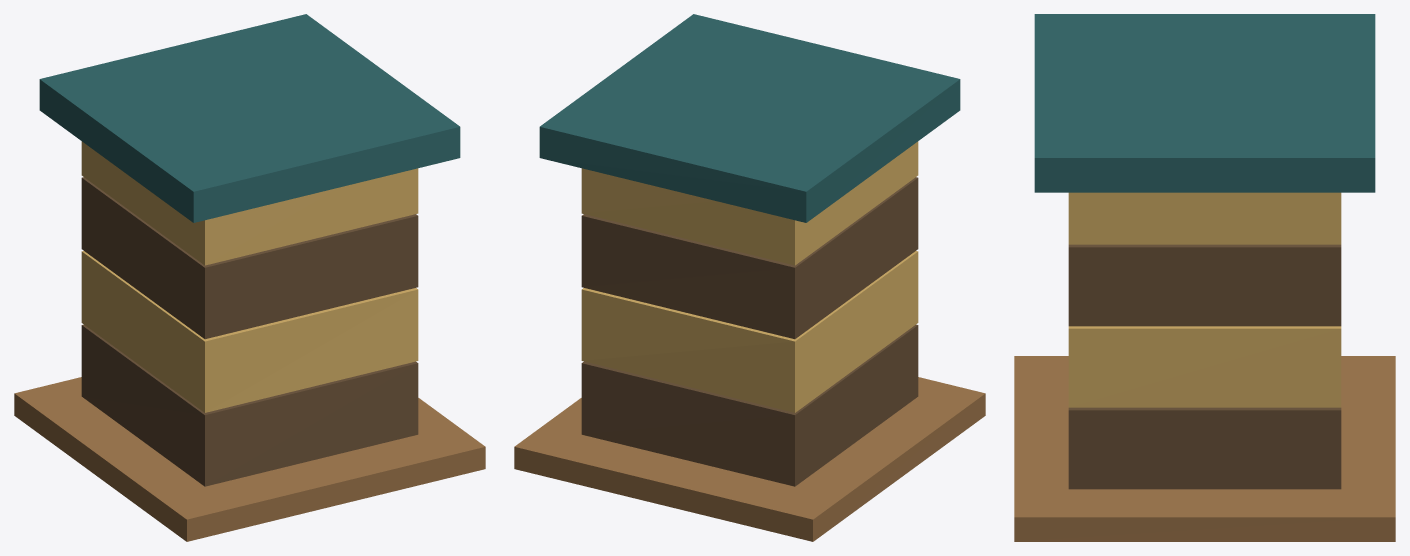
Rendered from Beehive.glb.
3 renders of one model, left to right at view 1: azimuth 30°, elevation 25°; view 2: azimuth 150°, elevation 25°; view 3: azimuth 270°, elevation 25°, orthographic. The views are drawn at different scales.
Visible parts, largest first — view 1: beehive-static-beehive-teal, beehive-static-beehive-timber, beehive-static-beehive-flower, beehive-static-beehive-earth; view 2: beehive-static-beehive-teal, beehive-static-beehive-timber, beehive-static-beehive-flower, beehive-static-beehive-earth; view 3: beehive-static-beehive-teal, beehive-static-beehive-timber, beehive-static-beehive-flower, beehive-static-beehive-earth.
Boxes of the visible parts, box(x1,y1,x2,y2) form: beehive-static-beehive-teal: box(39, 14, 460, 222); beehive-static-beehive-timber: box(81, 177, 418, 486); beehive-static-beehive-flower: box(81, 141, 418, 412); beehive-static-beehive-earth: box(14, 377, 485, 541); beehive-static-beehive-teal: box(539, 14, 960, 222); beehive-static-beehive-timber: box(581, 177, 918, 486); beehive-static-beehive-flower: box(581, 141, 918, 412); beehive-static-beehive-earth: box(514, 377, 985, 541); beehive-static-beehive-teal: box(1034, 14, 1375, 192); beehive-static-beehive-timber: box(1068, 244, 1341, 489); beehive-static-beehive-flower: box(1068, 192, 1341, 407); beehive-static-beehive-earth: box(1014, 356, 1395, 541).
Size of the model in its own units: 1.4 by 1.52 by 1.4.
